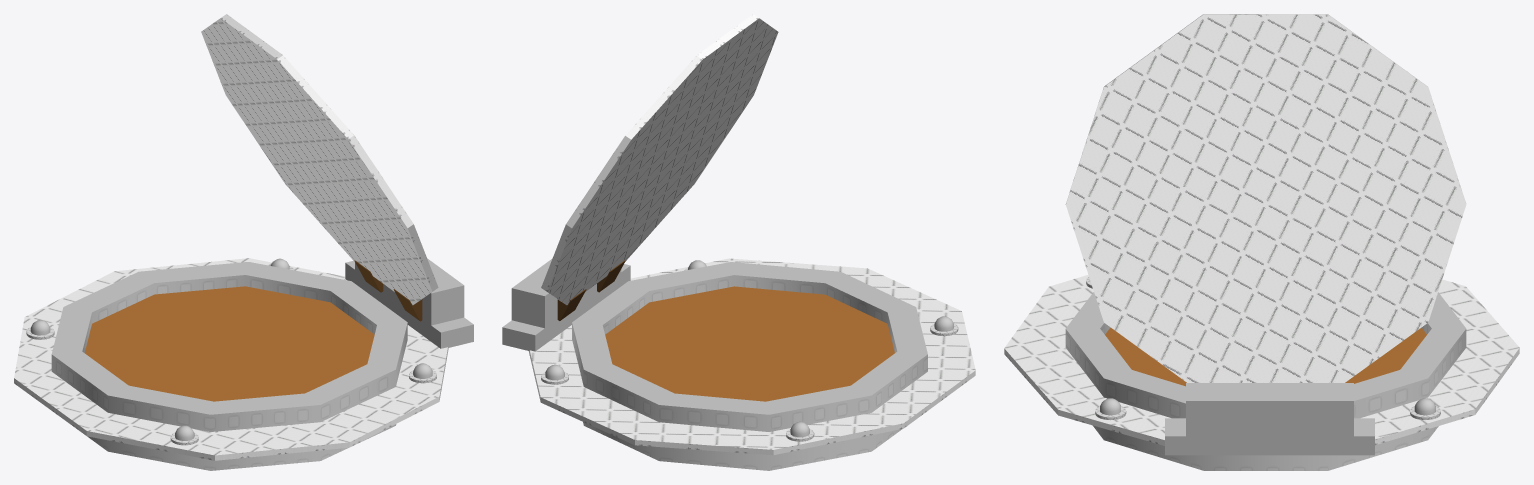
The model's file is dizuo.fbx.
3 renders of one model, left to right at view 1: azimuth 30°, elevation 25°; view 2: azimuth 150°, elevation 25°; view 3: azimuth 270°, elevation 25°, orthographic. The views are drawn at different scales.
Visible parts, largest first — view 1: dizuo, gaizi; view 2: dizuo, gaizi; view 3: gaizi, dizuo.
Part boxes in pixels (box(x1,y1,x2,y2)): dizuo: box(14, 258, 473, 470); gaizi: box(201, 14, 438, 321); dizuo: box(502, 258, 975, 470); gaizi: box(541, 14, 778, 320); gaizi: box(1065, 14, 1466, 382); dizuo: box(1004, 275, 1519, 470).
Size of the model in its own units: 818 by 722 by 866.
